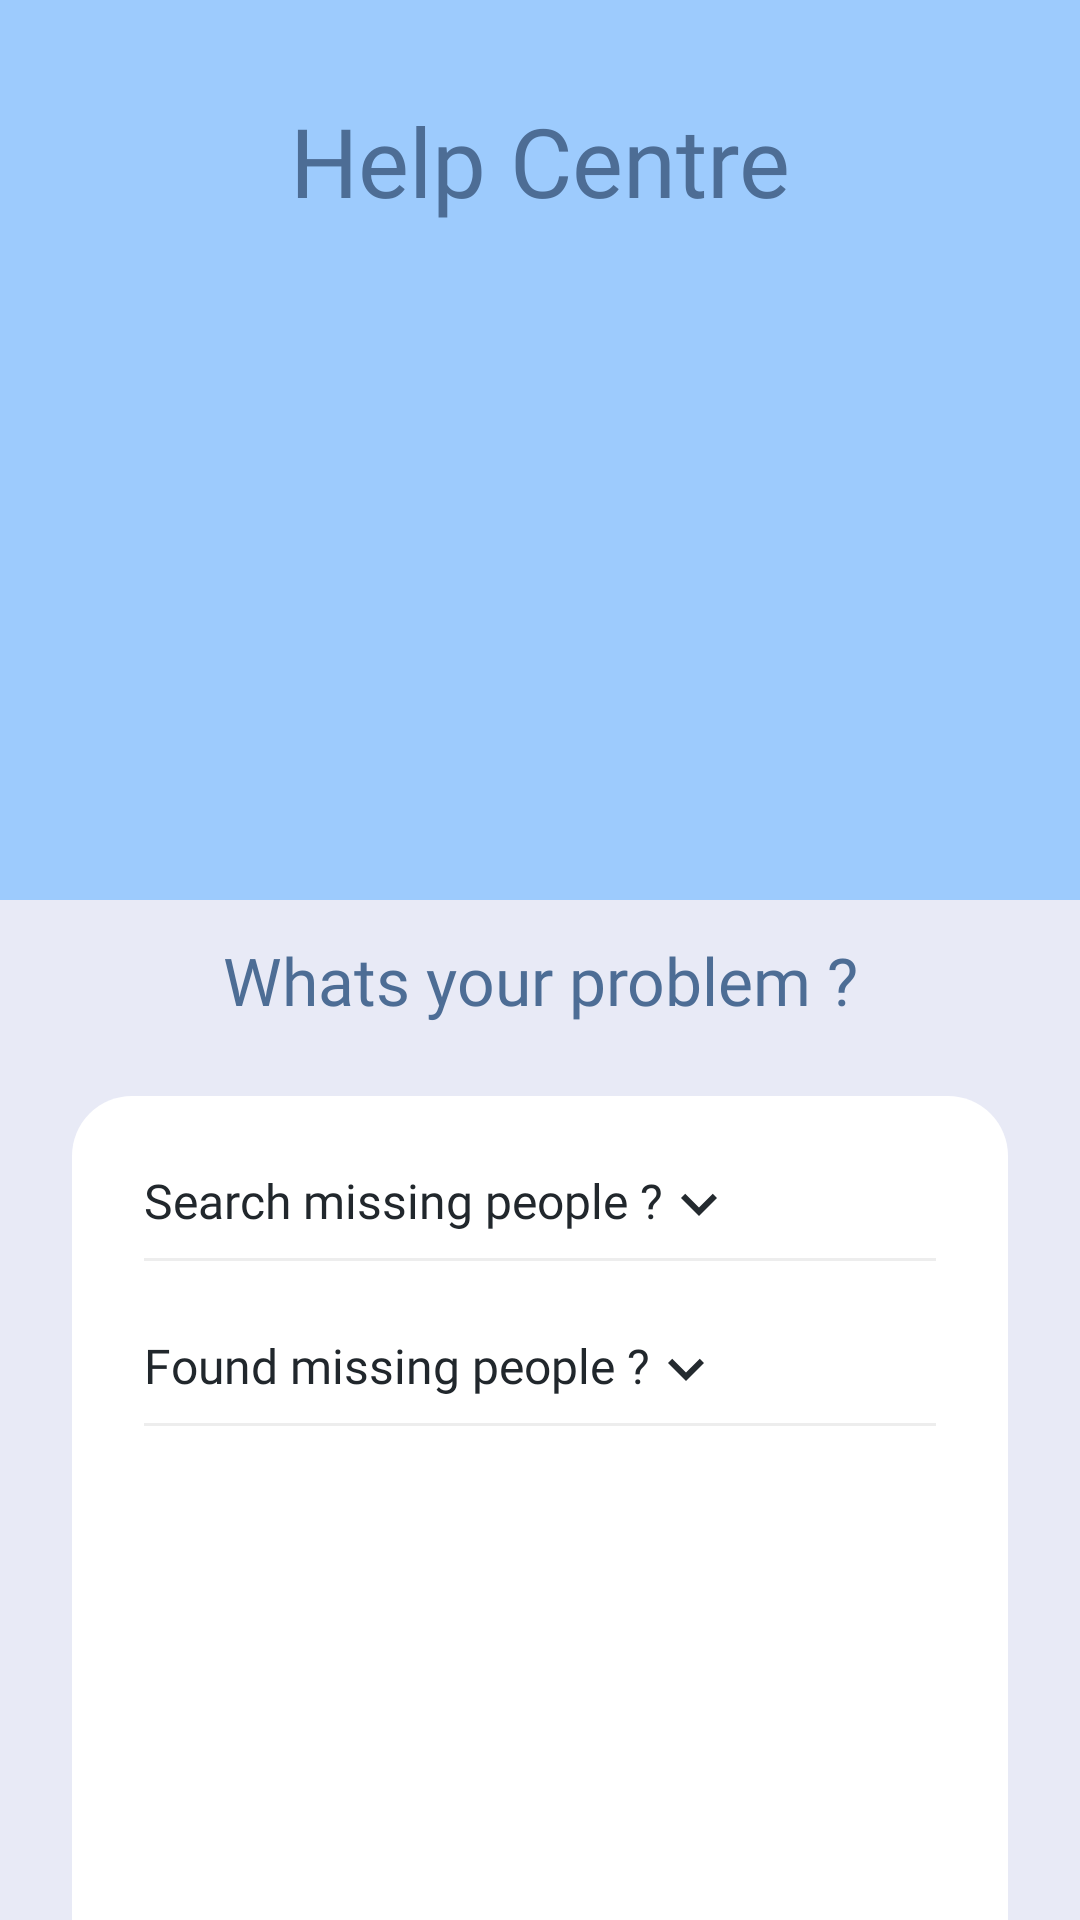

Where to tap for icons on this 1080 × 1920 app screen, as [x,y]:
expand more: [699,1205], [686,1370]
